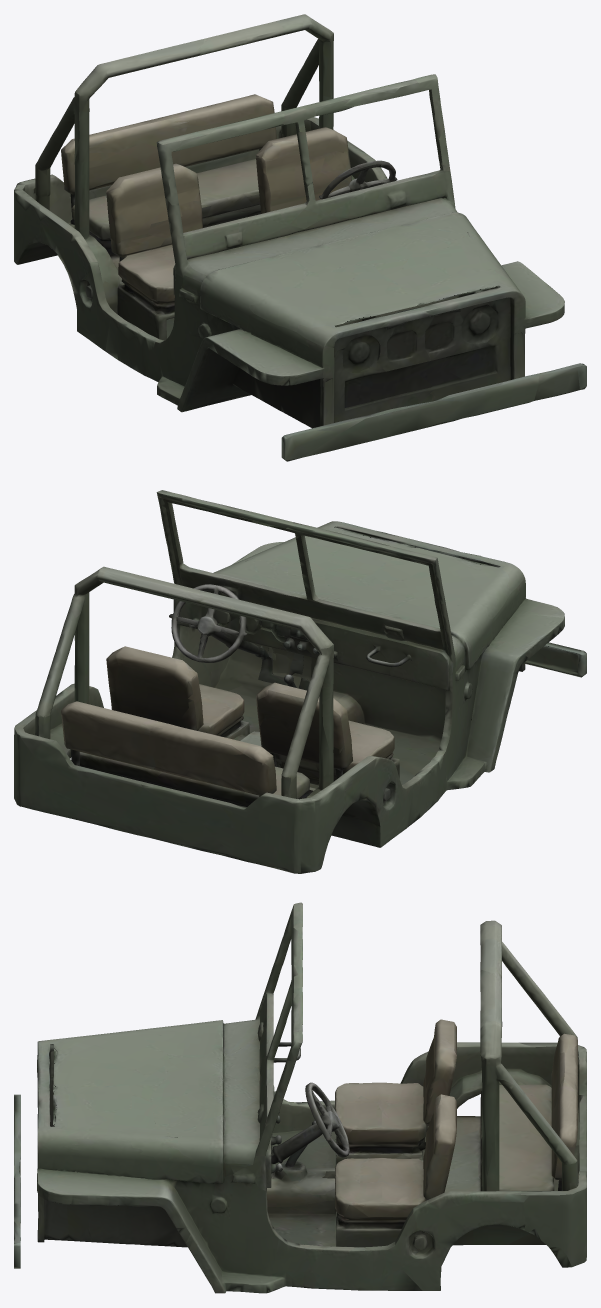
Rendered from int_jipe.glb.
3 views of the same model, one above another, from view 1: azimuth 30°, elevation 25°; view 2: azimuth 150°, elevation 25°; view 3: azimuth 270°, elevation 25° (orthographic). The views are drawn at different scales.
Parts seen in each view (by area): view 1: veiculo; view 2: veiculo; view 3: veiculo.
Boxes of the visible parts, left/top/right/bottom form: veiculo: left=14, top=14, right=586, bottom=461; veiculo: left=14, top=490, right=586, bottom=873; veiculo: left=14, top=902, right=586, bottom=1293.
Size of the model in its own units: 1.65 by 1.19 by 2.54.
Materials: 1 (1 with a texture image).
